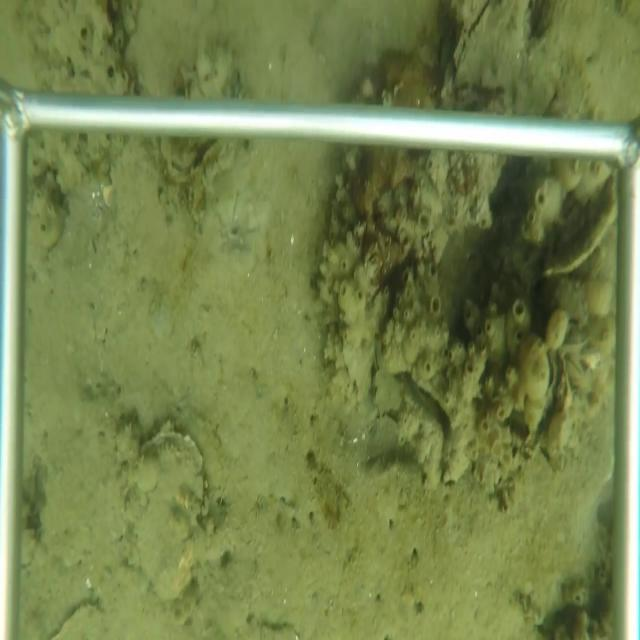Oyster-Closed: (442, 1, 532, 98)
Oyster-Indeterminate: (118, 420, 211, 604), (337, 294, 385, 419), (189, 138, 228, 180)
Oyster-Open: (519, 329, 558, 443), (554, 357, 576, 427)
